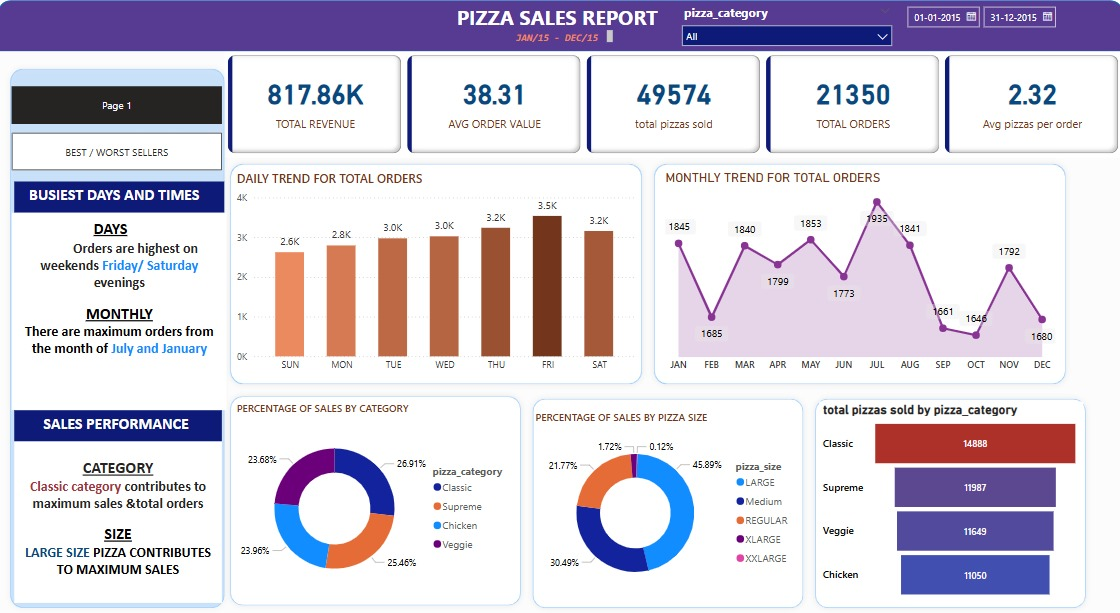

What the dashboard file says about the page in this screenshot:
{"tool":"powerbi","page":{"name":"Page 1","canvas":[1500,820],"ordinal":0},"visuals":[{"type":"cardVisual","fields":{"Data":["pizza_sales.TOTAL REVENUE","pizza_sales.AVG ORDER VALUE","pizza_sales.total pizzas sold","pizza_sales.TOTAL ORDERS","pizza_sales.Avg pizzas per order"]},"box":[301.7,70,1198.3,141.7],"z":0},{"type":"shape","box":[0,1.7,1500,68.3],"z":1000},{"type":"textbox","box":[606.7,1.7,298.3,68.3],"z":2000},{"type":"textbox","box":[673.3,36.7,151.7,26.7],"z":3000},{"type":"shape","box":[301.7,211.7,565,310],"z":4000},{"type":"columnChart","title":"DAILY TREND  FOR TOTAL ORDERS","fields":{"Category":["pizza_sales.ORDER DAY"],"Y":["pizza_sales.TOTAL ORDERS"]},"box":[313.3,228.3,541.7,278.3],"z":5000},{"type":"shape","box":[866.7,211.7,565,310],"z":6000},{"type":"areaChart","title":"MONTHLY TREND FOR TOTAL ORDERS","fields":{"Category":["pizza_sales.ORDER Month"],"Y":["pizza_sales.TOTAL ORDERS"]},"box":[885,228.3,530,278.3],"z":7000},{"type":"shape","box":[301.7,521.7,403.3,295],"z":8000},{"type":"shape","box":[705,525,376.7,295],"z":9000},{"type":"shape","box":[1081.7,525,376.7,295],"z":10000},{"type":"donutChart","title":"PERCENTAGE OF SALES BY CATEGORY","fields":{"Category":["pizza_sales.pizza_category"],"Y":["pizza_sales.TOTAL REVENUE"]},"box":[313.3,536.7,380,268.3],"z":11000},{"type":"shape","box":[8.3,85,301.7,735],"z":11500},{"type":"donutChart","title":"PERCENTAGE OF SALES BY PIZZA SIZE","fields":{"Y":["pizza_sales.TOTAL REVENUE"],"Category":["pizza_sales.pizza_size"]},"box":[711.7,548.3,356.7,256.7],"z":12000},{"type":"funnel","fields":{"Category":["pizza_sales.pizza_category"],"Y":["pizza_sales.total pizzas sold"]},"box":[1095,536.7,351.7,268.3],"z":14000},{"type":"textbox","box":[21.7,243.3,280,41.7],"z":15000},{"type":"textbox","box":[18.3,285,286.7,263.3],"z":15001},{"type":"textbox","box":[21.7,548.3,276.7,41.7],"z":15002},{"type":"textbox","box":[21.7,590,276.7,215],"z":15003},{"type":"slicer","fields":{"Values":["pizza_sales.pizza_category"]},"box":[901.7,1.7,300,61.7],"z":15004},{"type":"slicer","fields":{"Values":["pizza_sales.order_date"]},"box":[1200,0,300,70],"z":15005},{"type":"pageNavigator","box":[18.3,116.7,280,50],"z":15006},{"type":"pageNavigator","box":[18.3,178.3,280,50],"z":15007}]}

Visuals, with their boxes in screenshot pixels (x1, y1, x2, y2), scaled from the page's 1500x820 canvas onto the 1120x613 screenshot:
cardVisual - pizza_sales.TOTAL REVENUE x pizza_sales.AVG ORDER VALUE: [225,52,1119,158]
shape: [0,1,1119,52]
textbox: [453,1,676,52]
textbox: [503,27,616,47]
shape: [225,158,647,390]
"DAILY TREND  FOR TOTAL ORDERS" columnChart: [234,171,638,379]
shape: [647,158,1069,390]
"MONTHLY TREND FOR TOTAL ORDERS" areaChart: [661,171,1057,379]
shape: [225,390,526,611]
shape: [526,392,808,612]
shape: [808,392,1089,612]
"PERCENTAGE OF SALES BY CATEGORY" donutChart: [234,401,518,602]
shape: [6,64,231,612]
"PERCENTAGE OF SALES BY PIZZA SIZE" donutChart: [531,410,798,602]
funnel - pizza_sales.pizza_category x pizza_sales.total pizzas sold: [818,401,1080,602]
textbox: [16,182,225,213]
textbox: [14,213,228,410]
textbox: [16,410,223,441]
textbox: [16,441,223,602]
slicer - pizza_sales.pizza_category: [673,1,897,47]
slicer - pizza_sales.order_date: [896,0,1119,52]
pageNavigator: [14,87,223,125]
pageNavigator: [14,133,223,171]
